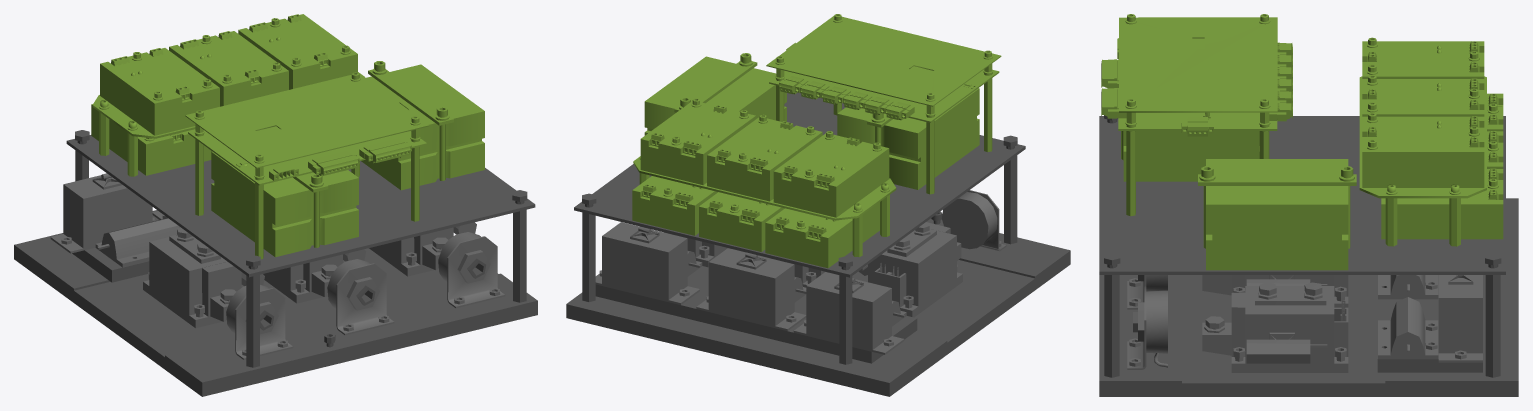
The model's file is 04_01_33_10_01_95_000-18 Blok tiristornih moduley.fbx.
The picture shows the model from 3 angles, left to right: view 1: azimuth 30°, elevation 25°; view 2: azimuth 150°, elevation 25°; view 3: azimuth 270°, elevation 25°; orthographic projection. The views are drawn at different scales.
Parts seen in each view (by area): view 1: Blok tiristornih moduley, 04.01.33.10.01.95.000-18 Блок тиристорных модулей, Group003, Group001; view 2: Blok tiristornih moduley, 04.01.33.10.01.95.000-18 Блок тиристорных модулей, Group003; view 3: Blok tiristornih moduley, 04.01.33.10.01.95.000-18 Блок тиристорных модулей, Group003, Group001.
Part boxes in pixels (bbox=[...]): Blok tiristornih moduley: bbox=[50, 14, 527, 367]; 04.01.33.10.01.95.000-18 Блок тиристорных модулей: bbox=[14, 135, 537, 396]; Group003: bbox=[185, 72, 429, 259]; Group001: bbox=[312, 141, 411, 175]; Blok tiristornih moduley: bbox=[582, 53, 1017, 364]; 04.01.33.10.01.95.000-18 Блок тиристорных модулей: bbox=[566, 92, 1070, 396]; Group003: bbox=[766, 14, 1001, 194]; Blok tiristornih moduley: bbox=[1104, 37, 1503, 377]; 04.01.33.10.01.95.000-18 Блок тиристорных модулей: bbox=[1099, 116, 1518, 396]; Group003: bbox=[1118, 14, 1277, 216]; Group001: bbox=[1101, 59, 1117, 118].
Bounding box in the file's own units: 345 × 207 × 330.
